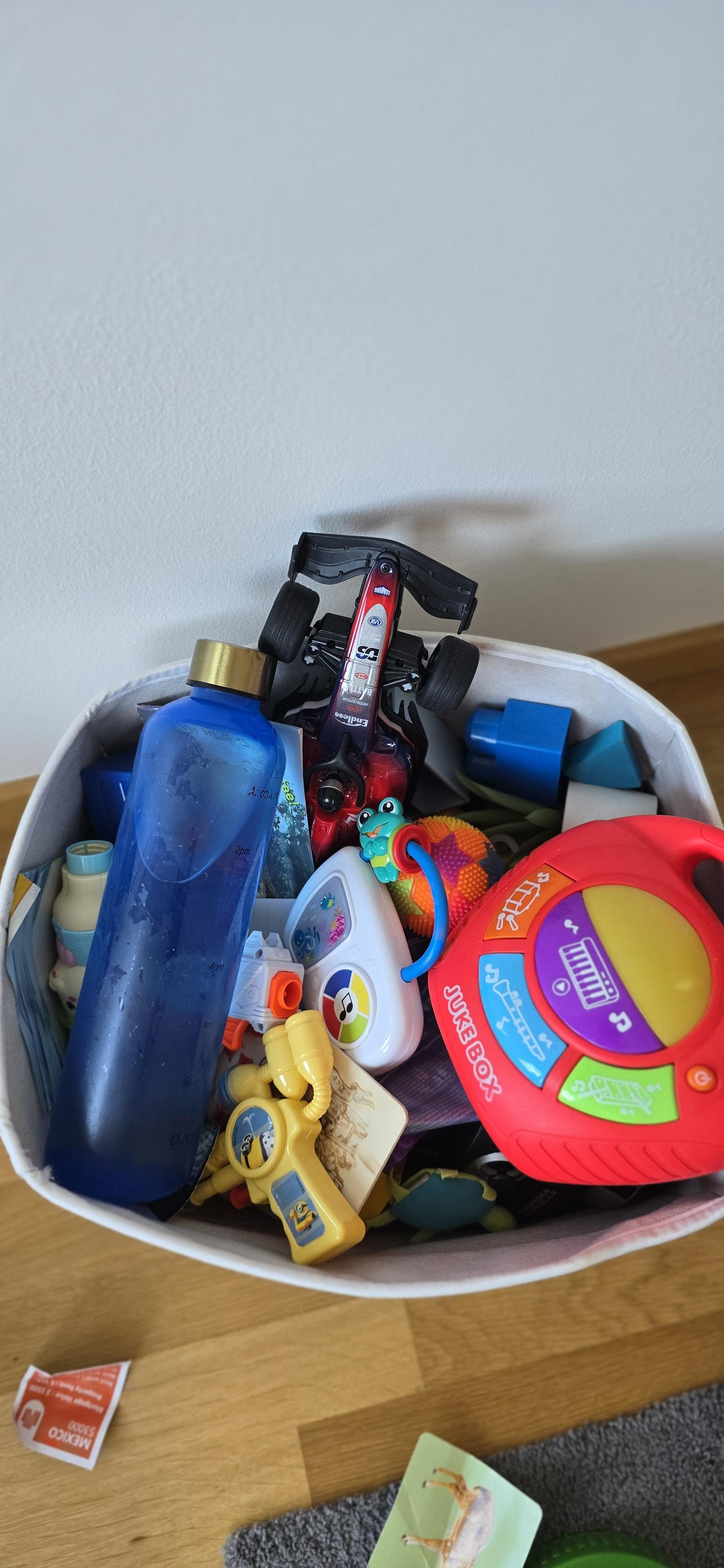bottle: (88, 636, 254, 1179)
